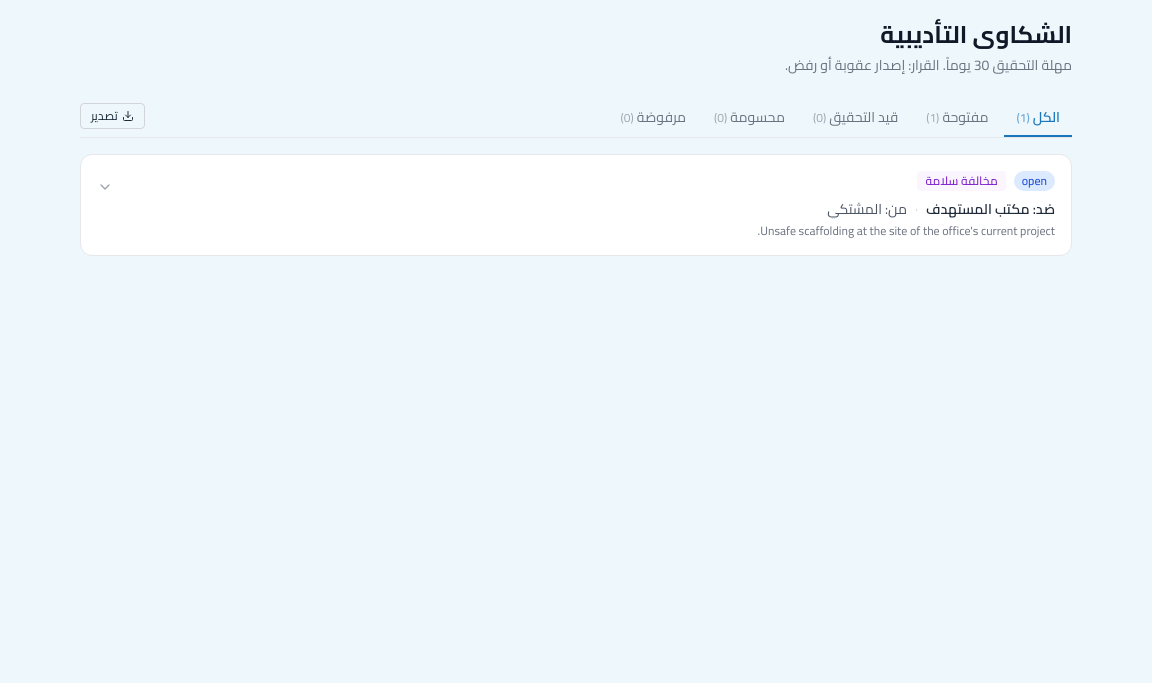
Test case: ComplaintsAdmin (JORD-81 UI) › submits a sanction with the picked ladder + reason
The width and height of the screenshot is (1152, 683).
Click the button that starts with "open" at coordinates (1034, 181), box [81,155,1071,255]
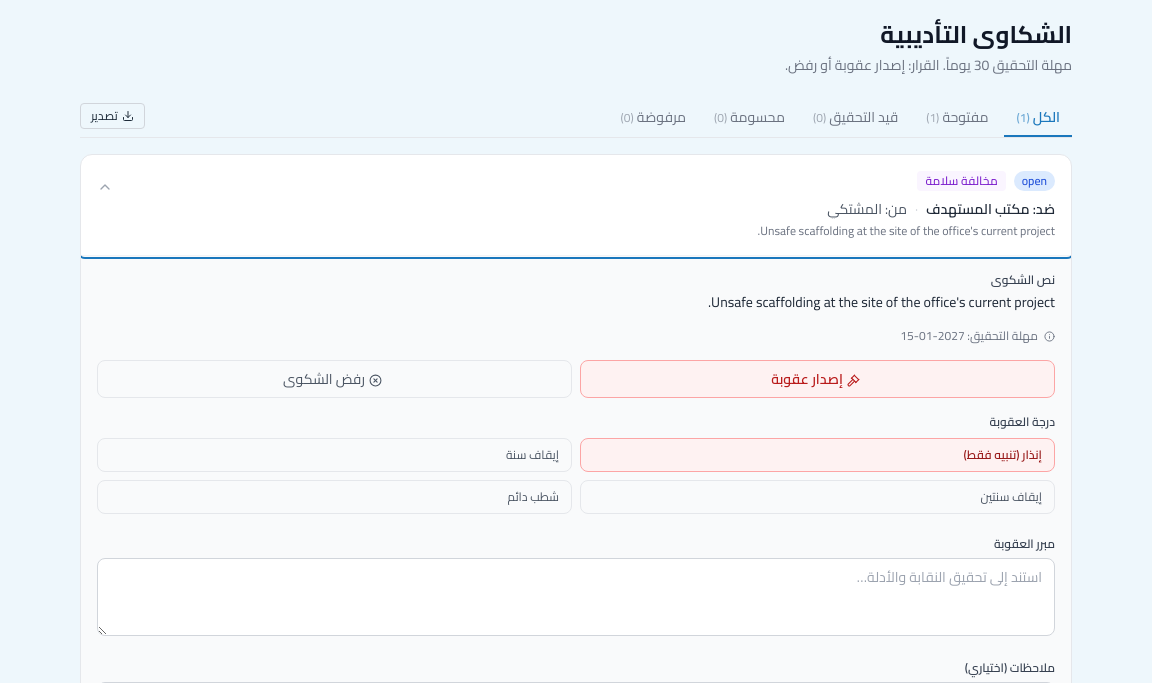
Click the button with test id "sanction-kind-suspension_2yr" at coordinates (1011, 496), box [580,480,1055,514]
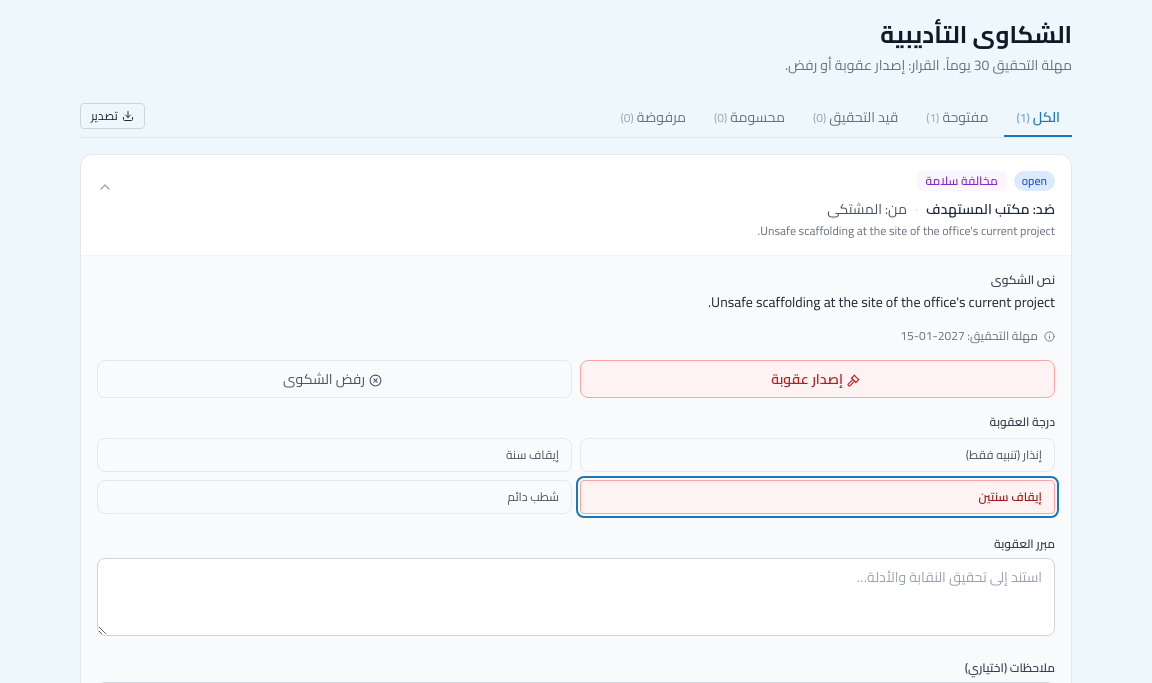
Type "مخالفة سلامة موثقة بتقرير النقابة." into the text box with test id "sanction-reason" at coordinates (576, 597), box [97,558,1055,636]
(page scrolled)
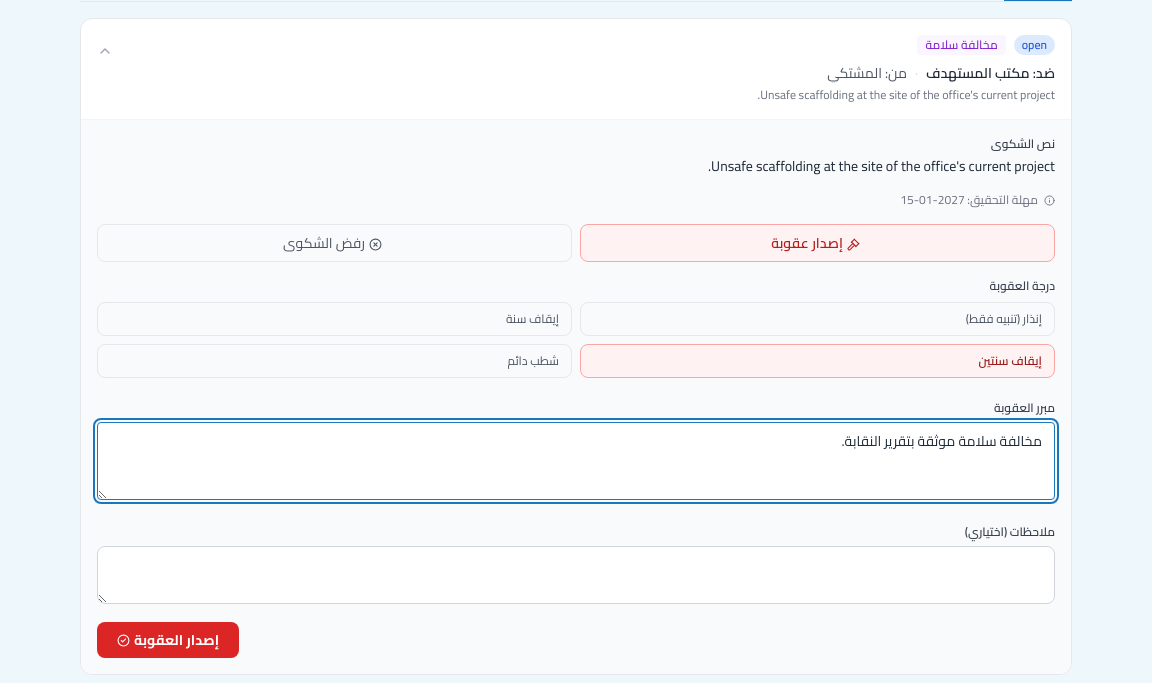
Click the button with test id "decide-submit" at coordinates (168, 640), box [97,622,239,658]
(page scrolled)
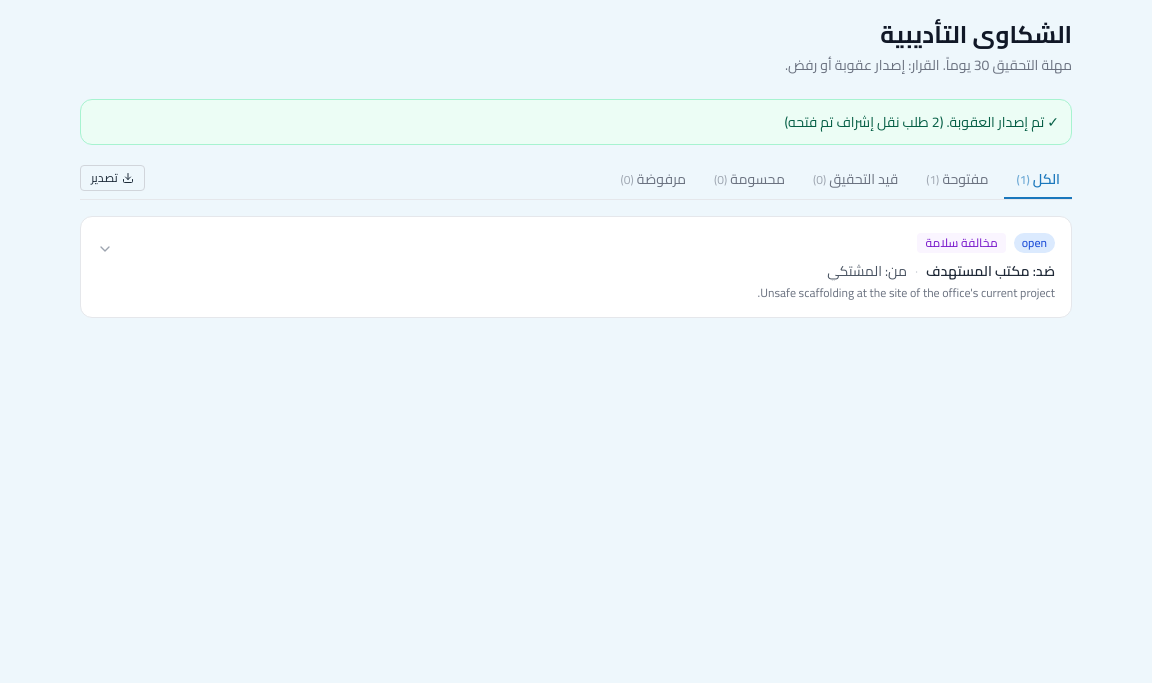
Check: the text "✓ تم إصدار العقوبة. (2 طلب نقل إشراف تم فتحه)" is shown, box [80,99,1072,145]
